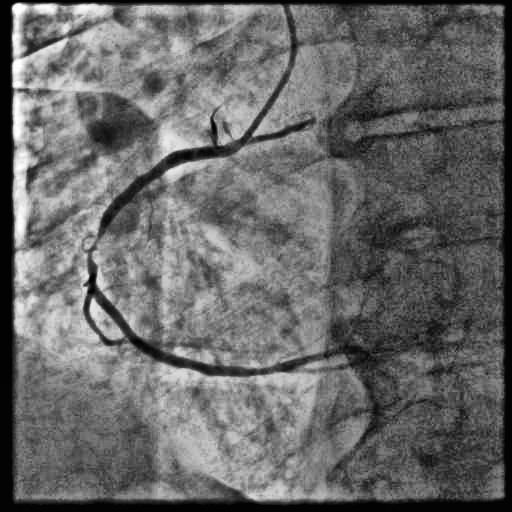pborca: (287, 343, 365, 368)
pda: (290, 358, 363, 373)
rca: (87, 143, 290, 376)
